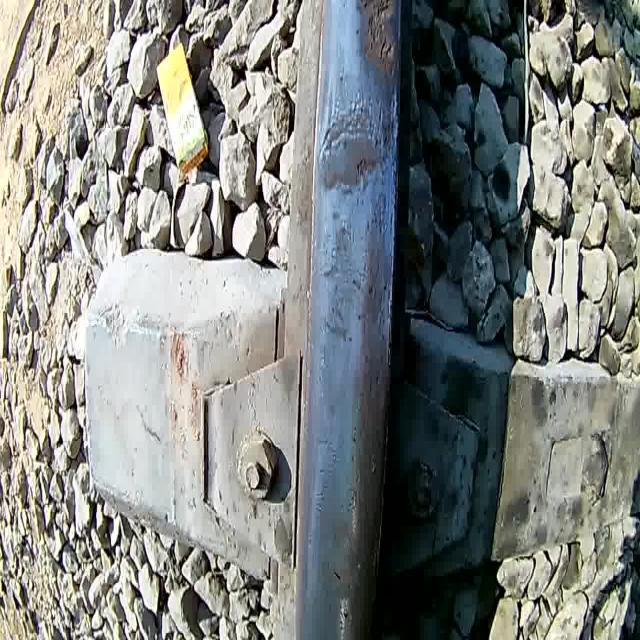Cracks: (372, 99, 404, 168)
Spallings: (359, 0, 400, 80), (351, 150, 372, 187)
Squats: (351, 0, 409, 158), (320, 203, 366, 353), (317, 105, 382, 202), (317, 514, 363, 610)
